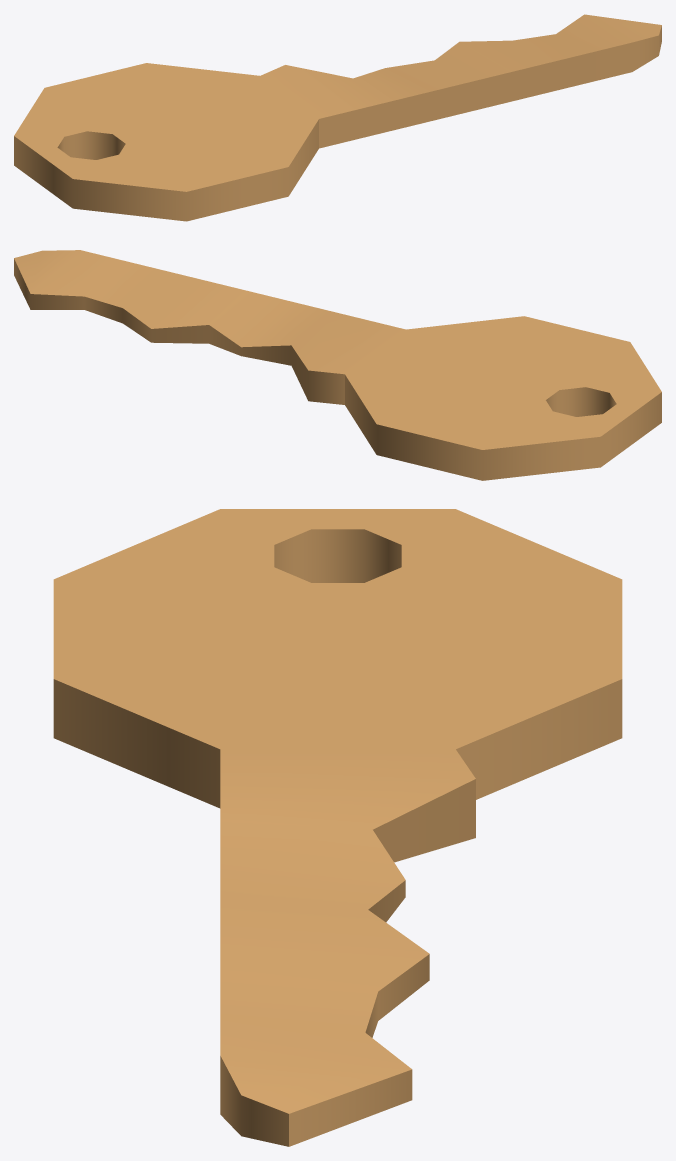
The model's file is SM_PadLockKey_Head.fbx.
3 renders of one model, top to bottom at view 1: azimuth 30°, elevation 25°; view 2: azimuth 150°, elevation 25°; view 3: azimuth 270°, elevation 25°, orthographic. The views are drawn at different scales.
Visible parts, largest first — view 1: SM_PadLockKey_Head; view 2: SM_PadLockKey_Head; view 3: SM_PadLockKey_Head.
Part boxes in pixels (x1,y1,x2,y2): SM_PadLockKey_Head: (14,14,661,221); SM_PadLockKey_Head: (14,250,661,480); SM_PadLockKey_Head: (53,509,622,1146).
Size of the model in its own units: 18.2 by 0.8496 by 7.39.
